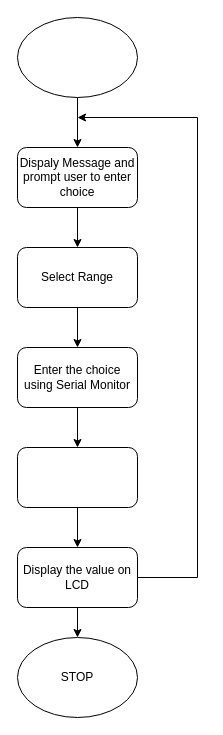
The diagram is 223 pixels wide and 735 high, and some of its shapes have lost their labels. The shapes that lost their labels are listed below. From the top down, each one's centre as x and y in pixels, then its label:
(77,57): START
(77,477): Insert Capacitor in appropriate position
